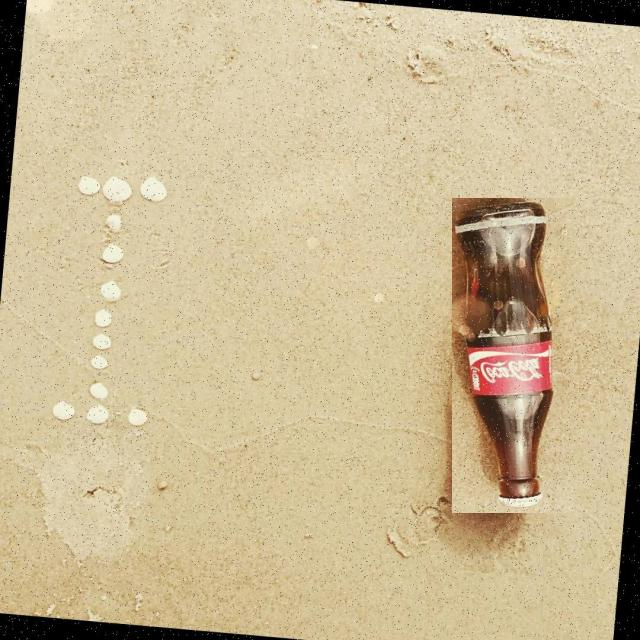coca-cola: (452, 198, 574, 513)
